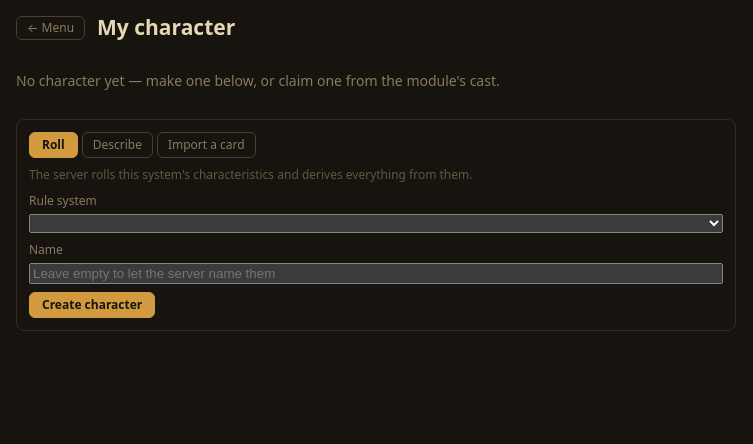
Test: CharacterScreen — editing › keeps the picker honest across modes: a system chosen for Describe is not shown for Roll
Click the button "Describe": (117, 144) [82,132,153,158]
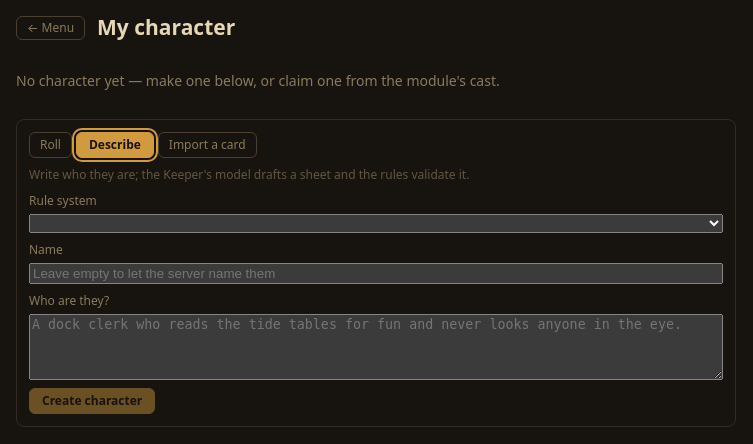
Select "wod" in the dropdown labelled "Rule system": (376, 223) [29,214,723,232]
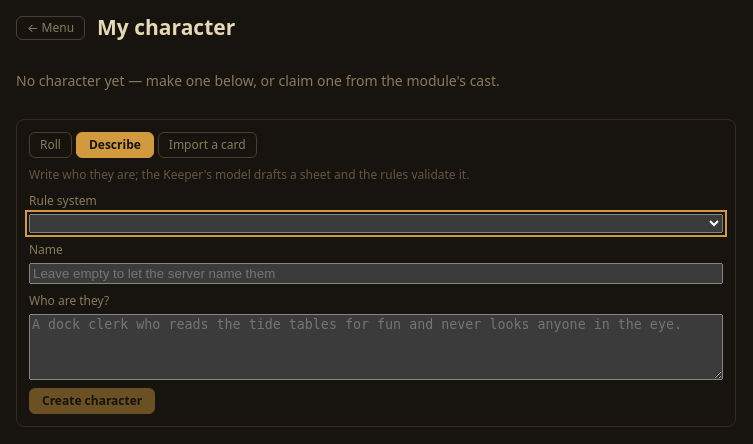
Click the button "Roll": (50, 144) [29,132,72,158]
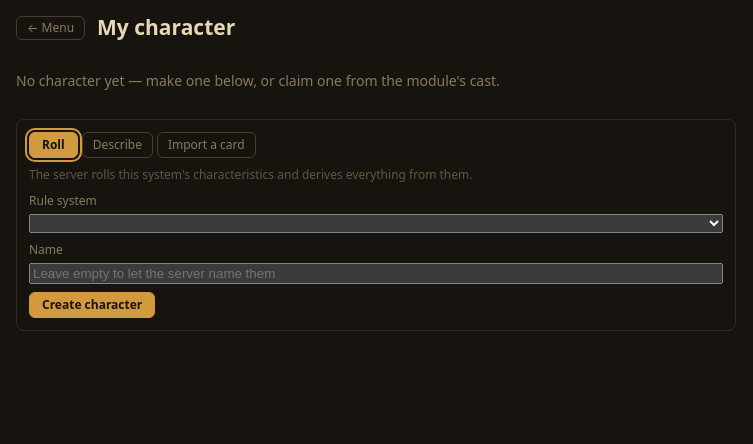
Now the button "Create character" is enabled, box [29,292,155,318]
